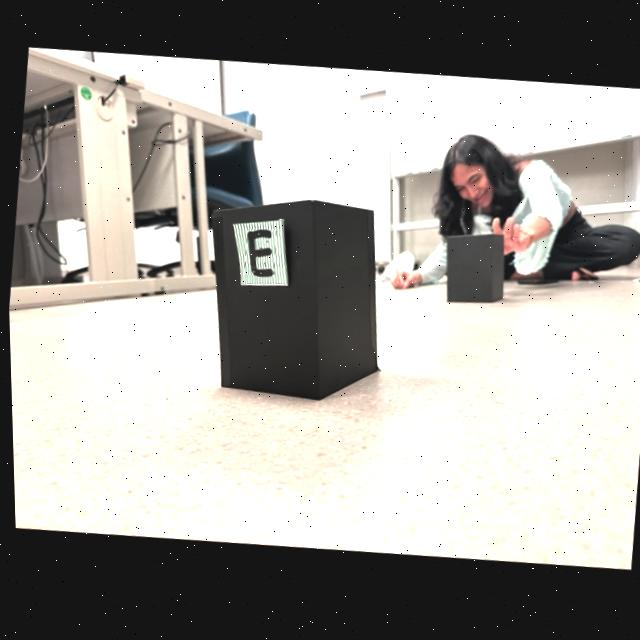E: (246, 232, 271, 278)
